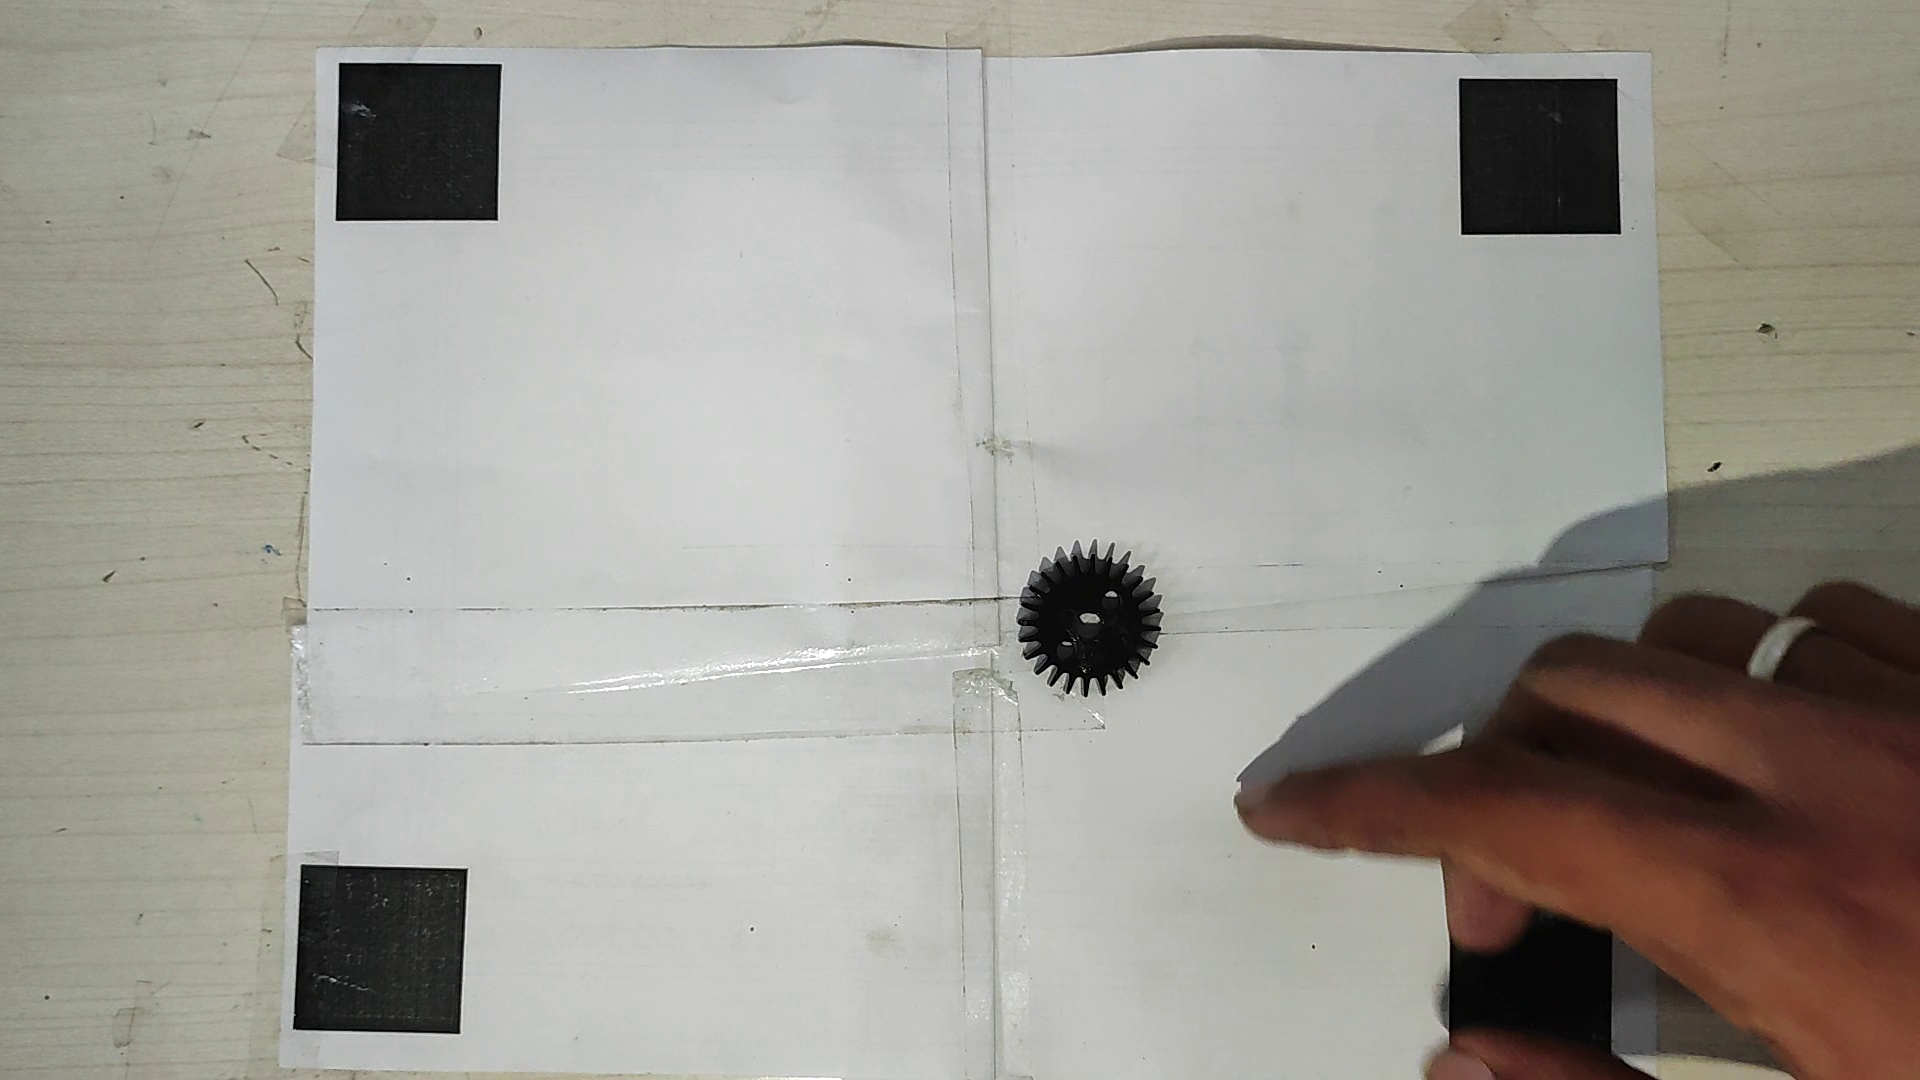Gear: (1011, 540, 1164, 699)
